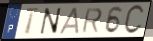6: (103, 6, 123, 35)
A: (58, 6, 80, 35)
C: (122, 4, 146, 36)
N: (39, 7, 62, 36)
R: (80, 7, 104, 34)
T: (24, 8, 41, 36)
